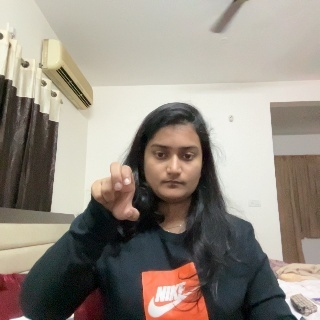Face: (142, 107, 203, 200)
No: (88, 160, 141, 239)
